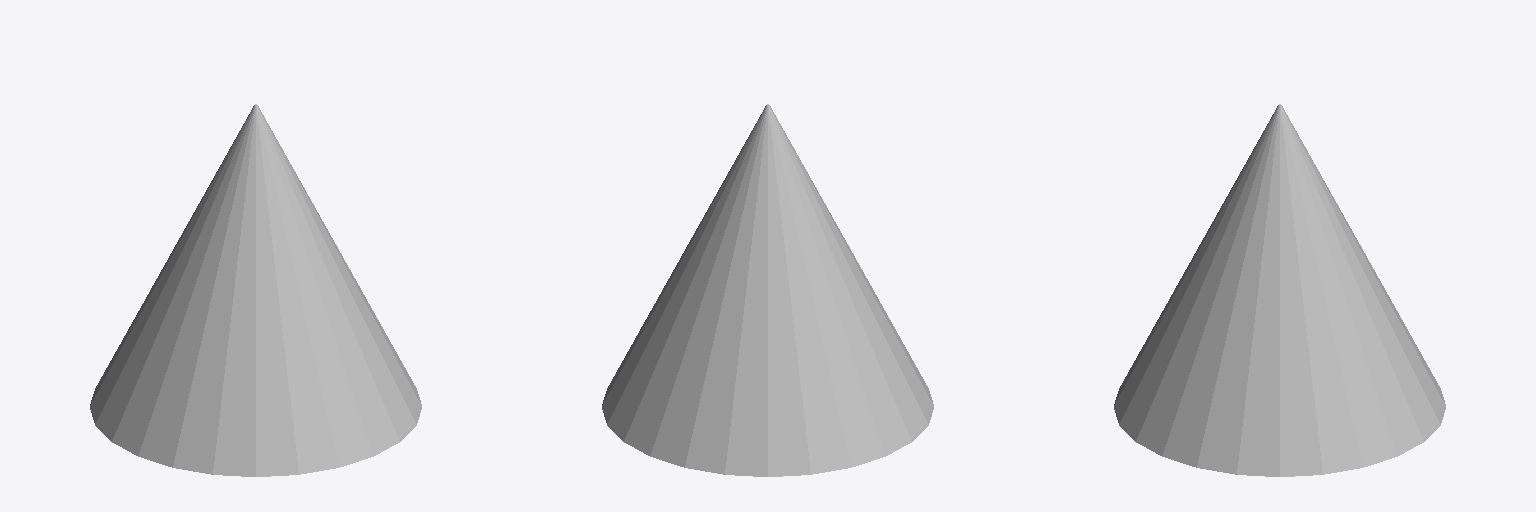
The model's file is Drill.obj.
The picture shows the model from 3 angles: view 1: azimuth 30°, elevation 25°; view 2: azimuth 150°, elevation 25°; view 3: azimuth 270°, elevation 25°; orthographic projection.
Visible parts, largest first — view 1: cylinder_cone_10; view 2: cylinder_cone_10; view 3: cylinder_cone_10.
Part boxes in pixels (bbox=[...]): cylinder_cone_10: bbox=[90, 104, 421, 476]; cylinder_cone_10: bbox=[602, 104, 933, 476]; cylinder_cone_10: bbox=[1114, 104, 1445, 476].
Size of the model in its own units: 1 by 1 by 1.